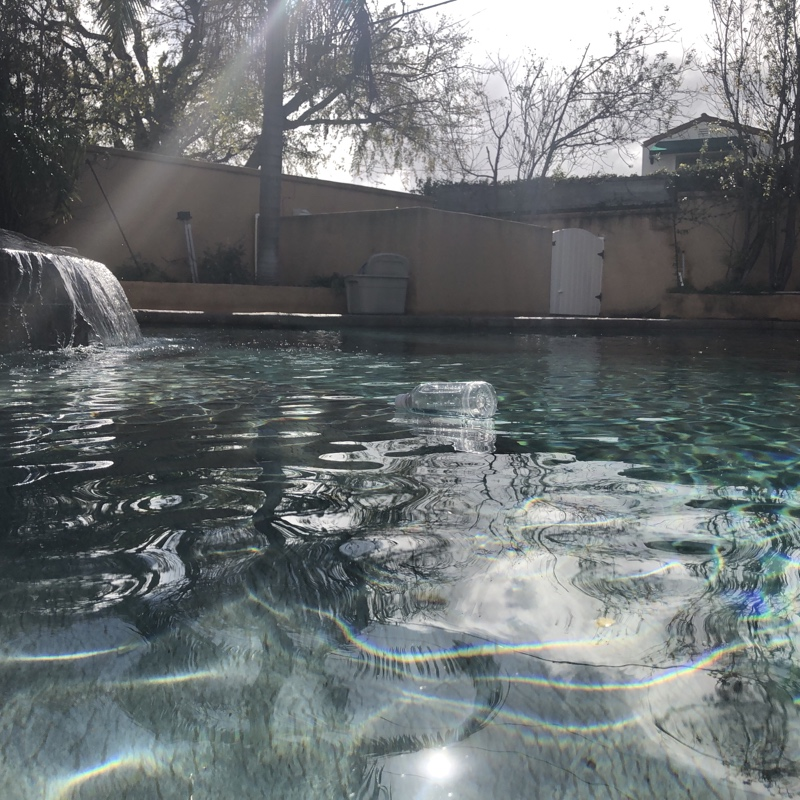Plastic Bottle: (392, 375, 501, 423)
